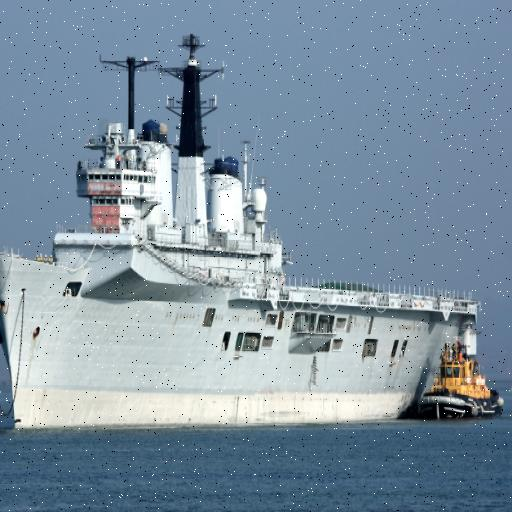Portanaves: (1, 25, 485, 443)
